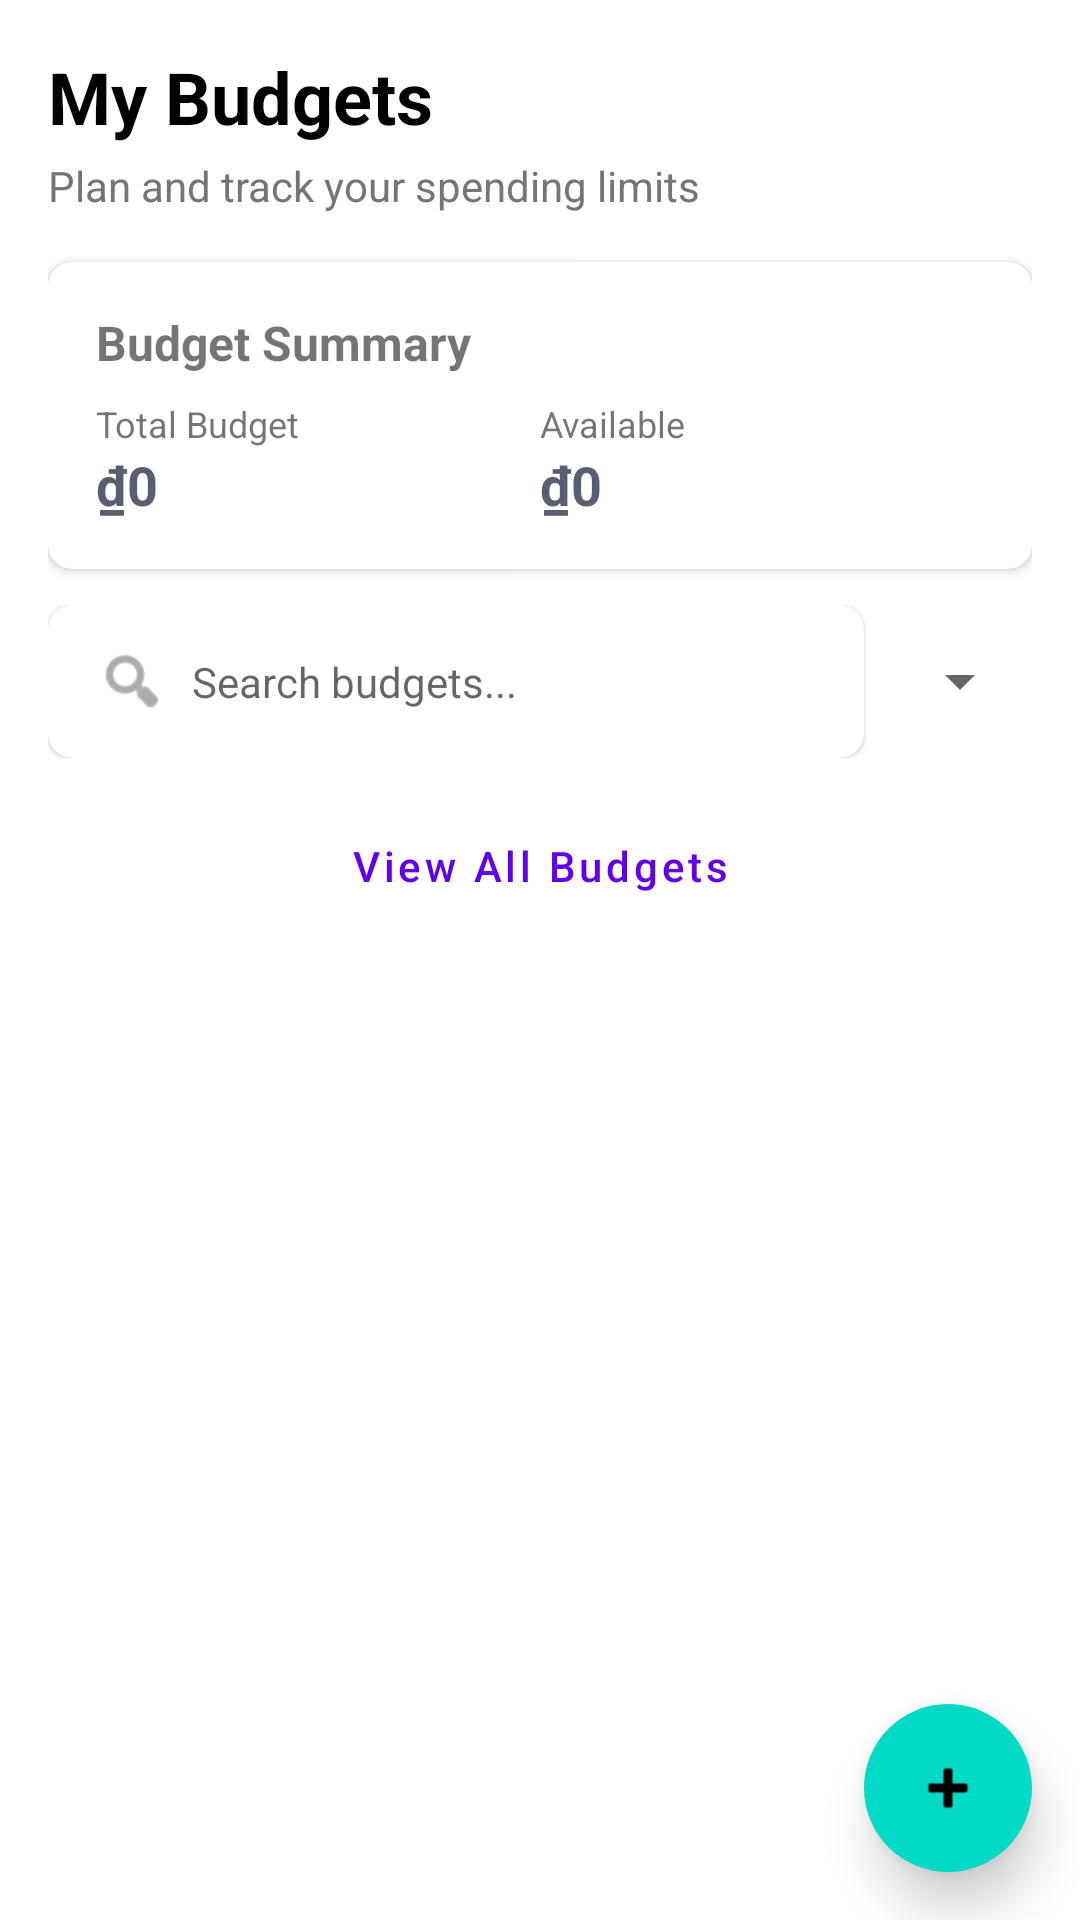

Locate icon controls on the screen. Image size 1080px x 1920px, boxes as (x1, y1, x2, y2).
Add Budget: (864, 1704, 1032, 1872)
